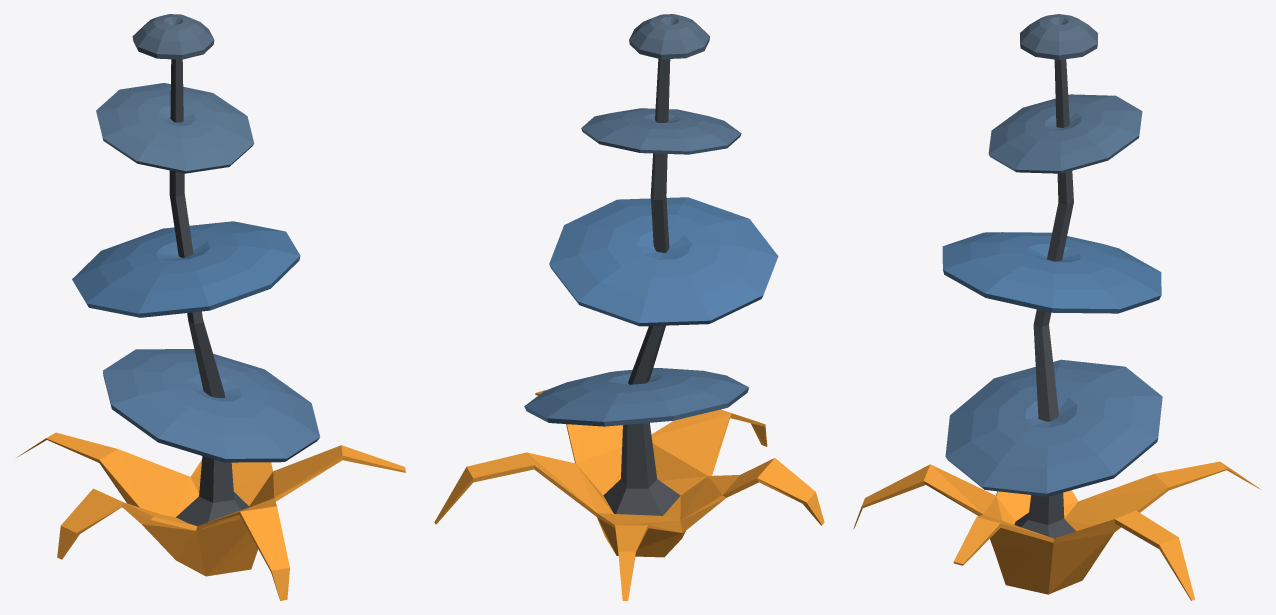
The model's file is AW_Tree02.fbx.
3 views of the same model, side by side, from view 1: azimuth 30°, elevation 25°; view 2: azimuth 150°, elevation 25°; view 3: azimuth 270°, elevation 25° (orthographic).
Visible parts, largest first — view 1: AW_Tree02; view 2: AW_Tree02; view 3: AW_Tree02.
Part boxes in pixels (bbox=[...]): AW_Tree02: bbox=[16, 14, 405, 600]; AW_Tree02: bbox=[434, 14, 824, 600]; AW_Tree02: bbox=[853, 14, 1260, 600].
Bounding box in the file's own units: 162 × 263 × 180.
1 material, 1 textured.
